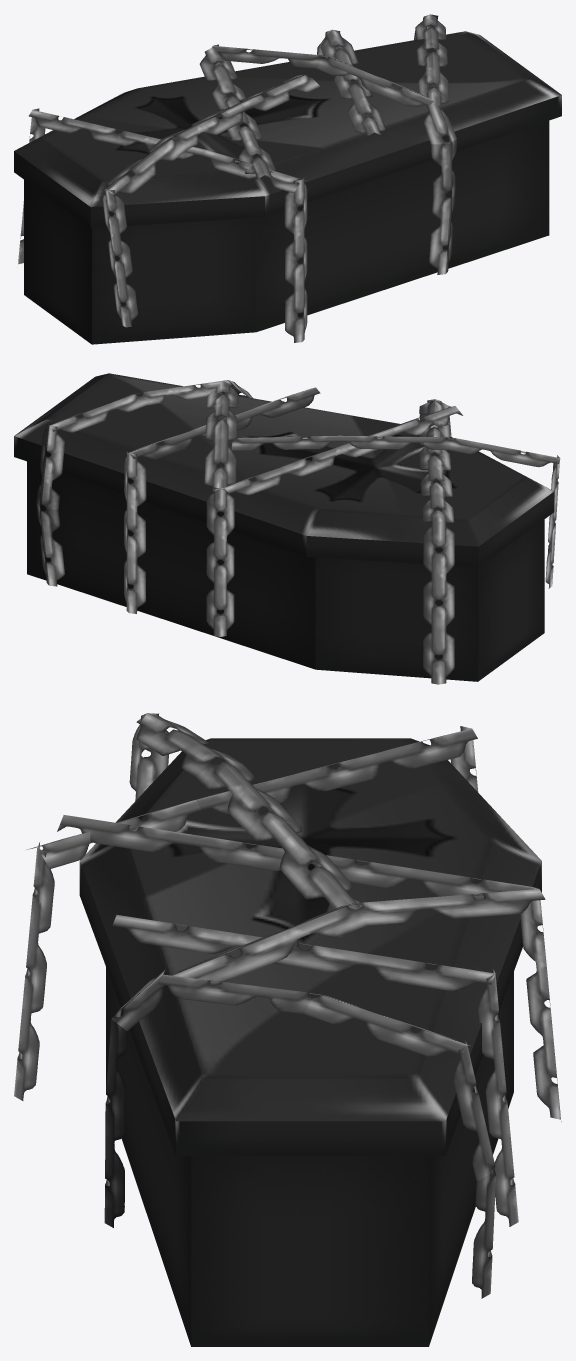
Rendered from Obstructing object.fbx.
3 views of the same model, one above another, from view 1: azimuth 30°, elevation 25°; view 2: azimuth 150°, elevation 25°; view 3: azimuth 270°, elevation 25° (orthographic). The views are drawn at different scales.
Parts seen in each view (by area): view 1: Object192, Object198; view 2: Object192, Object198; view 3: Object192, Object198.
Part boxes in pixels (x1,y1,x2,y2): Object192: (14, 31, 561, 344); Object198: (18, 14, 456, 342); Object192: (14, 373, 554, 681); Object198: (36, 380, 560, 684); Object192: (79, 738, 541, 1346); Object198: (14, 713, 561, 1298).
Bounding box in the file's own units: 2043 × 774 × 1264.
